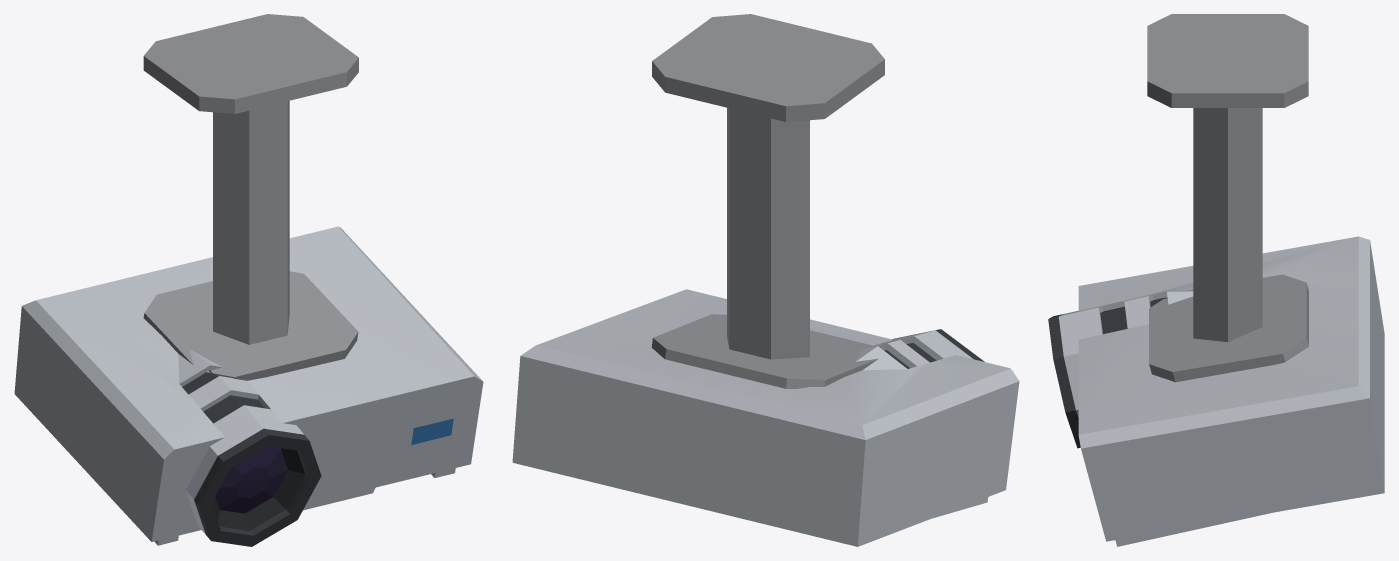
Rendered from SM_Prop_SlideProjector.fbx.
3 renders of one model, left to right at view 1: azimuth 30°, elevation 25°; view 2: azimuth 150°, elevation 25°; view 3: azimuth 270°, elevation 25°, orthographic. The views are drawn at different scales.
Visible parts, largest first — view 1: SM_Prop_SlideProjector.001; view 2: SM_Prop_SlideProjector.001; view 3: SM_Prop_SlideProjector.001.
Part boxes in pixels (left/top/right/bottom): SM_Prop_SlideProjector.001: left=14, top=14, right=483, bottom=546; SM_Prop_SlideProjector.001: left=512, top=14, right=1019, bottom=546; SM_Prop_SlideProjector.001: left=1048, top=14, right=1384, bottom=546.
Bounding box in the file's own units: 39.93 × 50.23 × 35.88.
2 materials, 2 textured.
